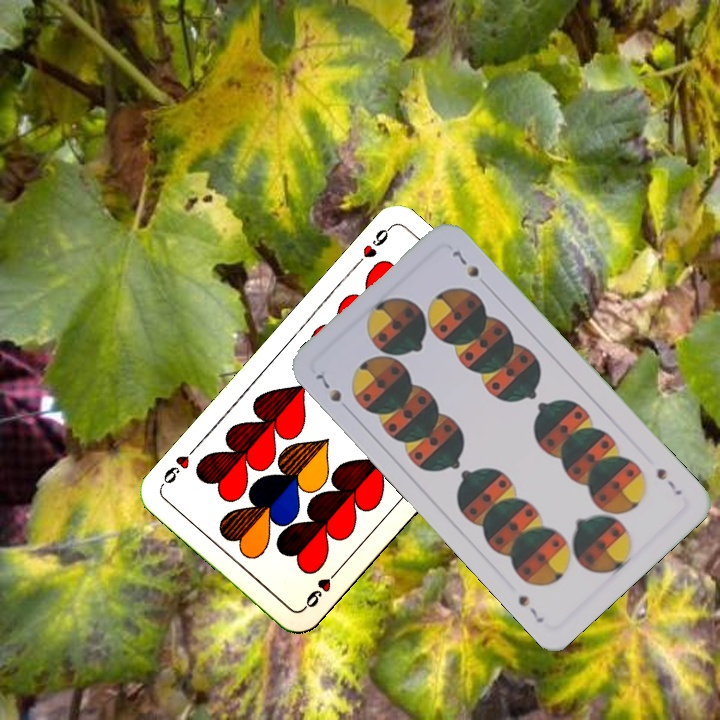H9: (298, 565, 342, 613), (350, 223, 394, 271)
S7: (311, 366, 345, 405), (652, 464, 685, 498)
